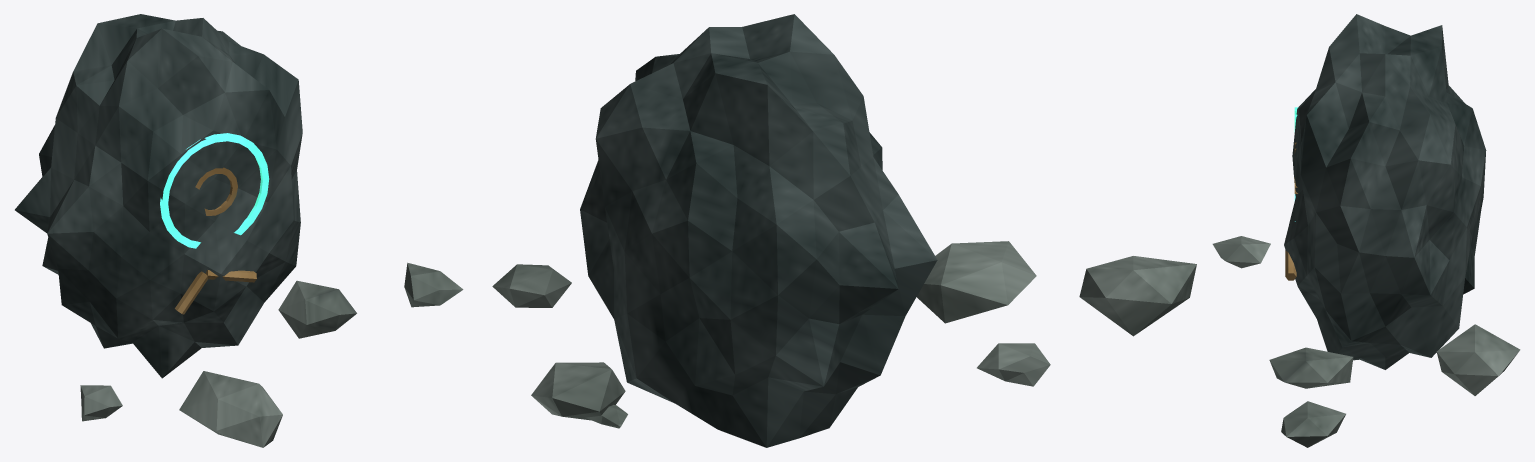
The model's file is 0671_waystone_21.glb.
The picture shows the model from 3 angles, left to right: view 1: azimuth 30°, elevation 25°; view 2: azimuth 150°, elevation 25°; view 3: azimuth 270°, elevation 25°; orthographic projection. The views are drawn at different scales.
Parts seen in each view (by area): view 1: stone_dark, stone, glow, brass; view 2: stone_dark, stone; view 3: stone_dark, stone.
Boxes of the visible parts, left/top/right/bottom form: stone_dark: left=15, top=14, right=302, bottom=378; stone: left=80, top=262, right=463, bottom=447; glow: left=160, top=133, right=269, bottom=248; brass: left=175, top=167, right=256, bottom=314; stone_dark: left=580, top=14, right=937, bottom=447; stone: left=492, top=241, right=1050, bottom=428; stone_dark: left=1284, top=14, right=1486, bottom=369; stone: left=1079, top=236, right=1520, bottom=447.
Size of the model in its own units: 1.68 by 1.37 by 1.59.
Materials: 4 (4 with a texture image).
